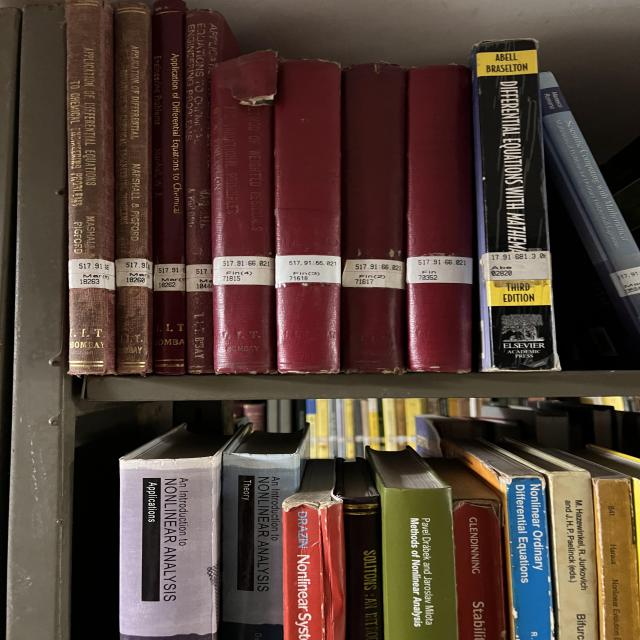Book: (472, 39, 560, 371), (540, 72, 640, 340), (210, 51, 277, 374), (275, 60, 342, 374), (342, 62, 407, 374), (407, 65, 473, 372), (185, 9, 240, 374), (65, 0, 115, 375), (115, 4, 153, 374), (152, 0, 187, 375)
Label: (275, 255, 342, 288), (480, 251, 552, 281), (342, 259, 405, 289), (213, 256, 275, 286), (407, 256, 473, 284), (68, 259, 115, 290), (115, 259, 153, 289), (610, 266, 640, 298), (153, 264, 185, 291), (185, 264, 213, 292)
